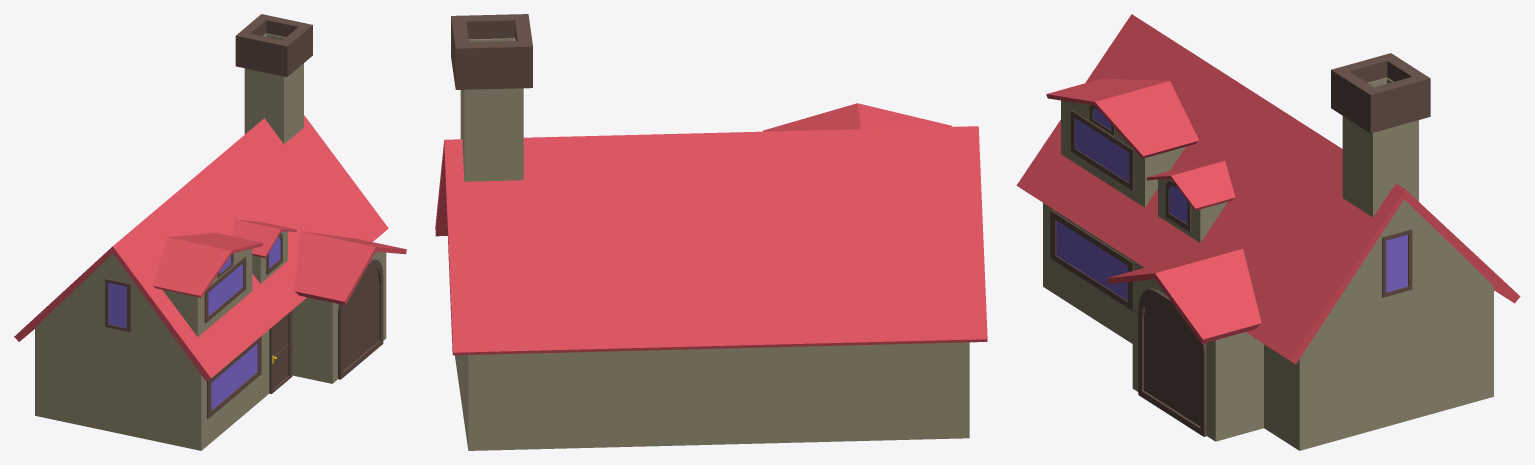
Rendered from CALLE1_CASA1_020.fbx.
The picture shows the model from 3 angles, left to right: view 1: azimuth 30°, elevation 25°; view 2: azimuth 150°, elevation 25°; view 3: azimuth 270°, elevation 25°; orthographic projection. The views are drawn at different scales.
Visible parts, largest first — view 1: CASA1.020; view 2: CASA1.020; view 3: CASA1.020.
Part boxes in pixels (x1,y1,x2,y2): CASA1.020: [14, 14, 406, 450]; CASA1.020: [435, 14, 987, 450]; CASA1.020: [1016, 14, 1520, 450].
Bounding box in the file's own units: 1111 × 734 × 988.
